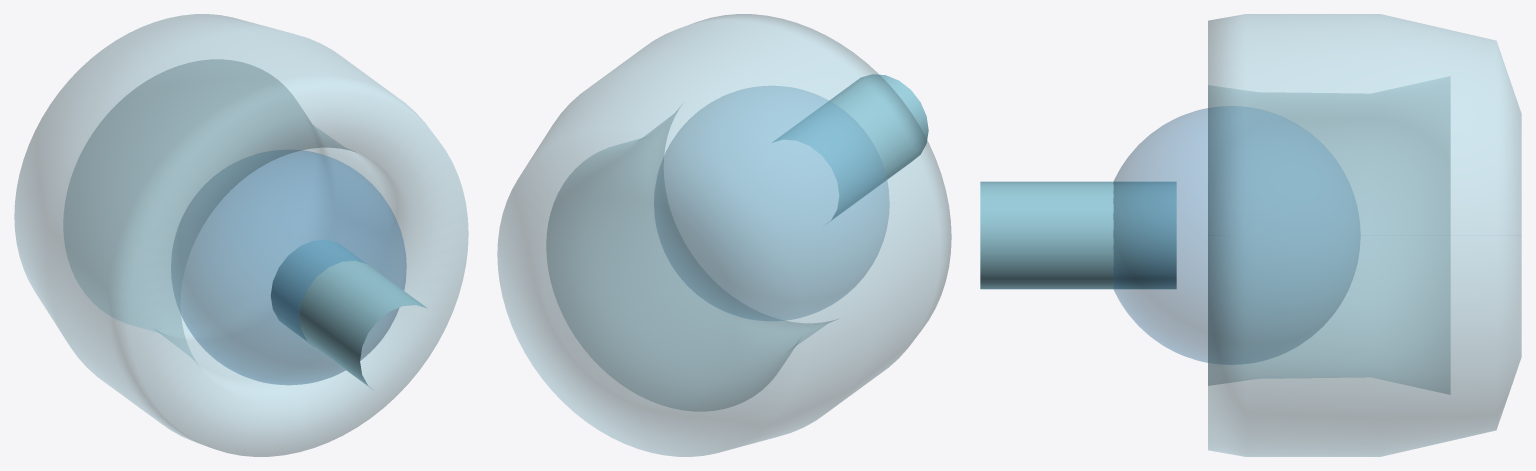
3 views of the same model, side by side, from view 1: azimuth 30°, elevation 25°; view 2: azimuth 150°, elevation 25°; view 3: azimuth 270°, elevation 25° (orthographic). The views are drawn at different scales.
Parts seen in each view (by area): view 1: retaining-socket, joint-ball, joint-stem; view 2: retaining-socket, joint-ball, joint-stem; view 3: retaining-socket, joint-ball, joint-stem.
Boxes of the visible parts, <box> form: retaining-socket: <box>14,14,468,456</box>; joint-ball: <box>171,150,406,384</box>; joint-stem: <box>270,239,427,390</box>; retaining-socket: <box>497,14,951,456</box>; joint-ball: <box>654,86,889,320</box>; joint-stem: <box>773,74,928,222</box>; retaining-socket: <box>1208,14,1521,456</box>; joint-ball: <box>1113,106,1360,364</box>; joint-stem: <box>980,181,1176,289</box>.
Size of the model in its own units: 1.06 by 1.06 by 1.29.
